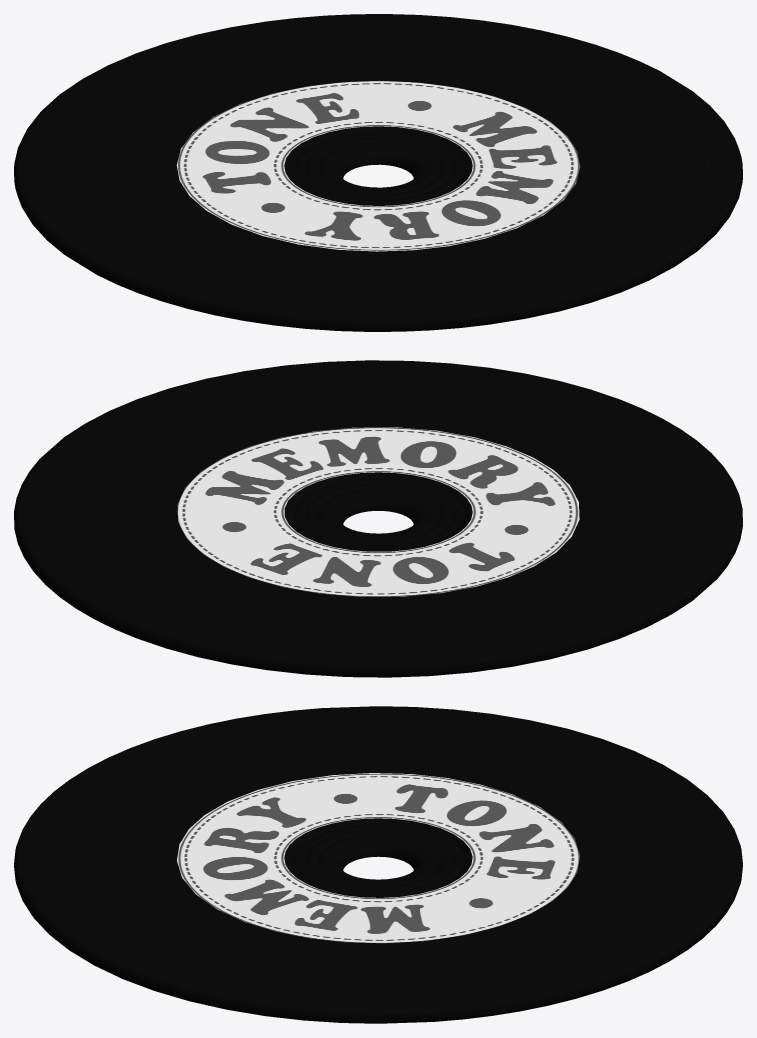
3 views of the same model, one above another, from view 1: azimuth 30°, elevation 25°; view 2: azimuth 150°, elevation 25°; view 3: azimuth 270°, elevation 25° (orthographic).
Visible parts, largest first — view 1: recode (2); view 2: recode (2); view 3: recode (2).
Part boxes in pixels (x1,y1,x2,y2): recode (2): (14,14,742,331); recode (2): (14,360,742,677); recode (2): (14,706,742,1023).
Bounding box in the file's own units: 0.4434 × 0.00947 × 0.4434.
Materials: 2 (1 with a texture image).
